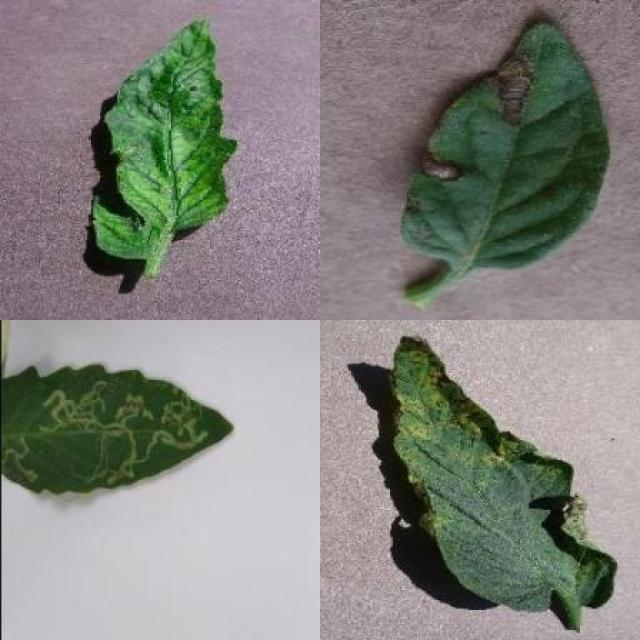Early Blight: (400, 18, 611, 272)
Leaf Miner: (3, 365, 234, 498)
Mosaic Virus: (87, 13, 239, 264)
Septoria: (392, 334, 618, 614)
